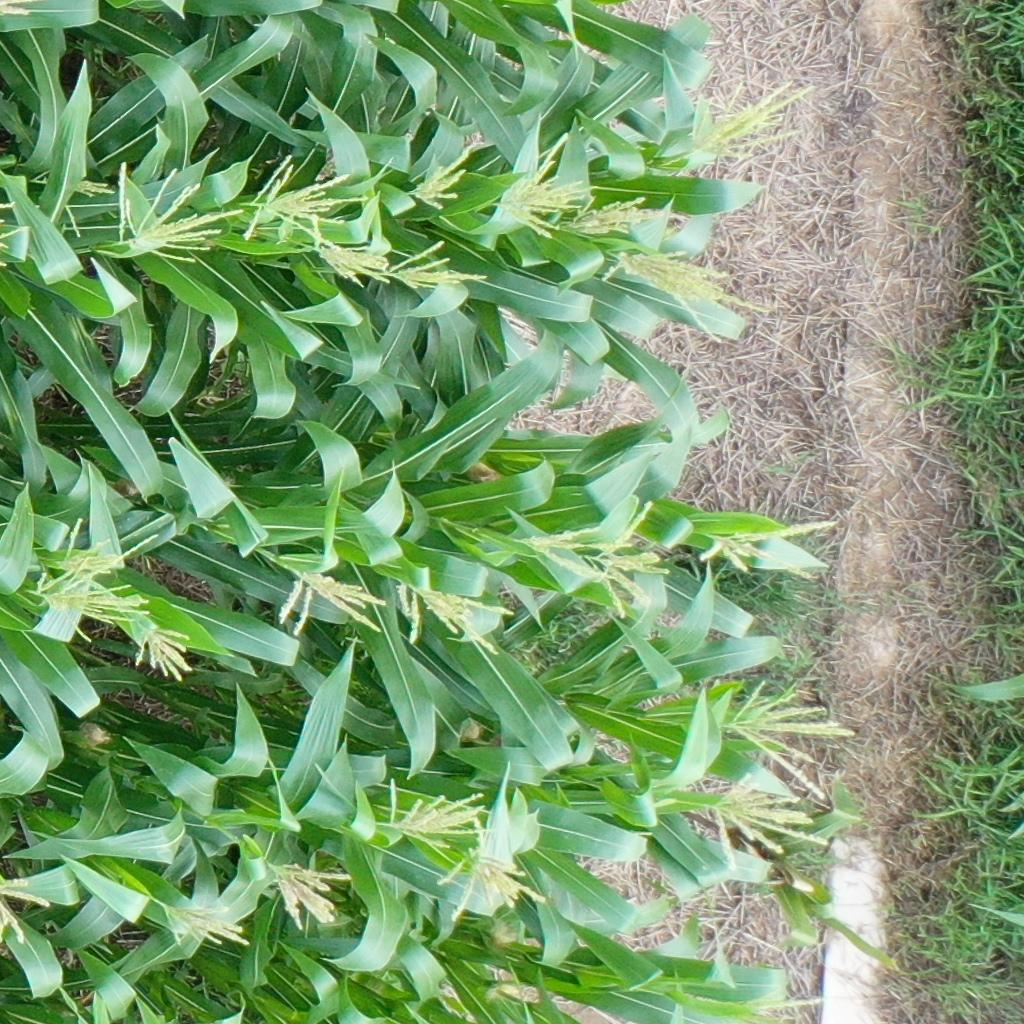Tassel: (725, 674, 857, 799), (601, 246, 768, 344), (25, 532, 158, 645), (110, 162, 243, 266), (709, 772, 830, 872), (243, 152, 369, 245), (439, 816, 542, 923), (393, 574, 518, 655), (590, 499, 672, 621), (691, 79, 812, 159), (701, 516, 838, 585), (498, 131, 583, 241), (381, 772, 499, 850), (272, 563, 387, 643), (267, 853, 355, 935), (520, 523, 633, 584), (30, 168, 117, 241), (381, 240, 488, 295), (407, 137, 479, 217), (126, 620, 203, 690), (159, 897, 249, 950), (311, 236, 391, 292), (563, 195, 652, 244), (48, 518, 123, 576), (719, 985, 826, 1024), (1, 870, 52, 947)
